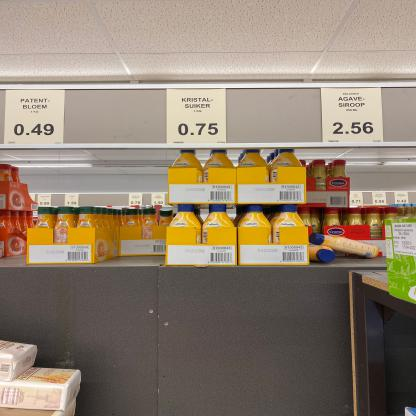prtg: (4, 90, 67, 146), (321, 88, 385, 143), (167, 89, 228, 145)
